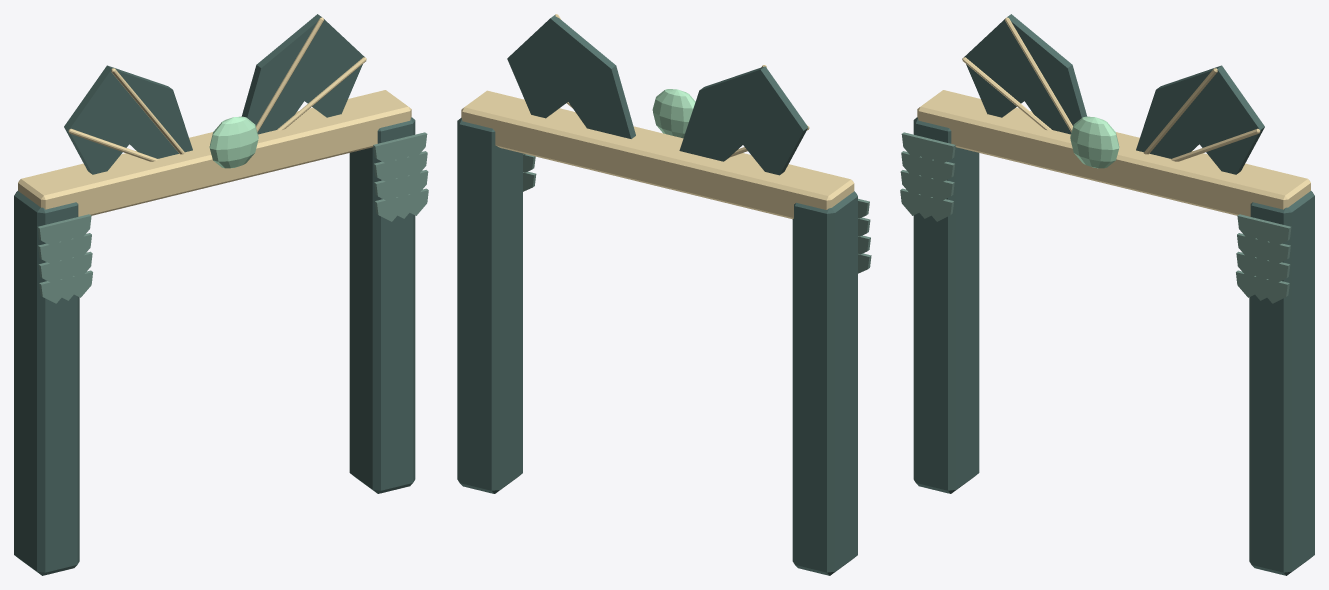
File: Dragon_Gateway.fbx
3 renders of one model, left to right at view 1: azimuth 30°, elevation 25°; view 2: azimuth 150°, elevation 25°; view 3: azimuth 330°, elevation 25°, orthographic.
Parts seen in each view (by area): view 1: Dragon_Gateway; view 2: Dragon_Gateway; view 3: Dragon_Gateway.
Boxes of the visible parts, box(x1,y1,x2,y2) form: Dragon_Gateway: box(14, 14, 428, 575); Dragon_Gateway: box(457, 14, 871, 575); Dragon_Gateway: box(900, 14, 1314, 575).
Bounding box in the file's own units: 254 × 302 × 45.7.
